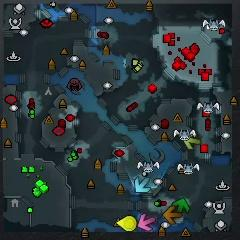p4: (116, 216, 137, 231)
x1: (139, 214, 156, 230)
x2: (185, 135, 201, 150)
x3: (135, 177, 150, 193)
x4: (172, 198, 190, 213)
x5: (163, 206, 182, 223)
